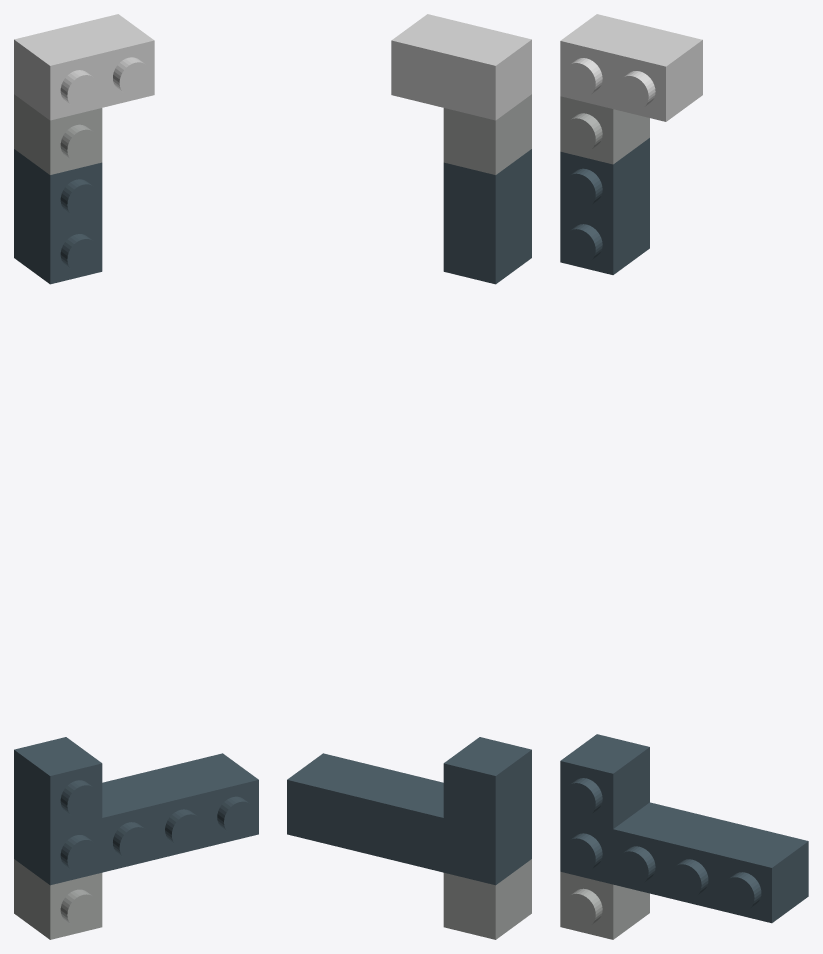
File: current.glb
3 renders of one model, left to right at view 1: azimuth 30°, elevation 25°; view 2: azimuth 150°, elevation 25°; view 3: azimuth 330°, elevation 25°, orthographic.
Parts seen in each view (by area): view 1: world; view 2: world; view 3: world.
Boxes of the visible parts, x1,y1,x2,y2 form: world: (14, 14, 258, 939); world: (287, 14, 531, 939); world: (560, 14, 808, 939).
Size of the model in its own units: 32 by 128 by 11.4.
